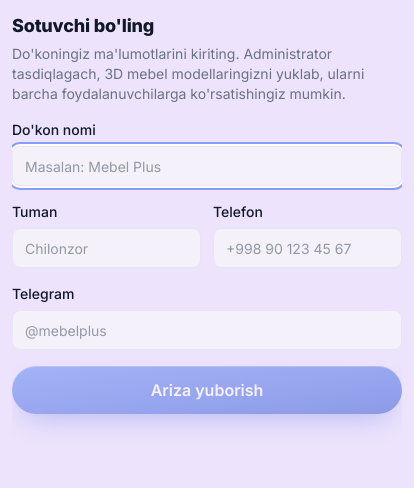
Scenario: forms refuse a phone that is not an Uzbek number › store application
Type "Mebel" into the field labelled "Do'kon nomi" at (207, 166), box [12,146,402,186]
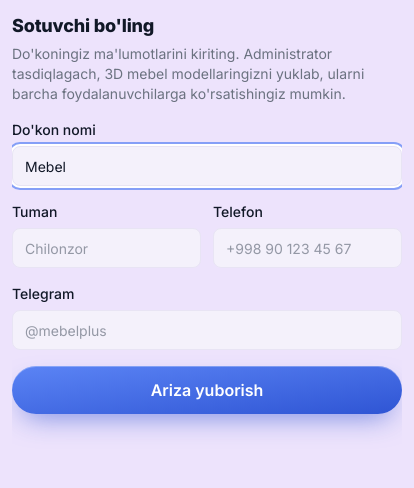
Type "abc" into the field labelled "Telefon" at (308, 248), box [213,228,402,268]
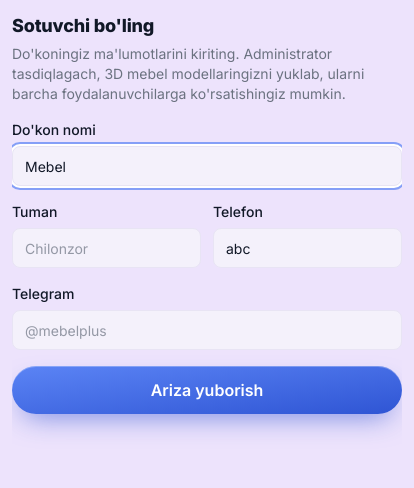
Click the button "Ariza yuborish" at (207, 390), box [12,366,402,414]
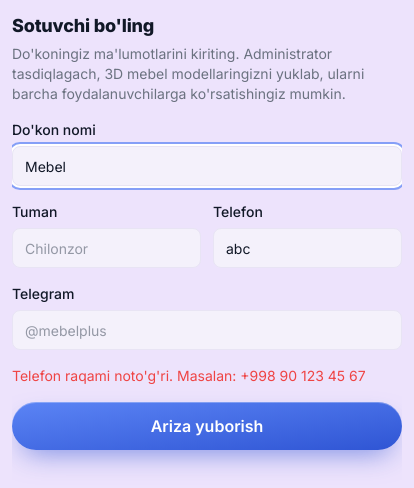
Result: the message reads "Telefon raqami noto'g'ri. Masalan: +998 90 123 45 67" at [12,367,366,384]
